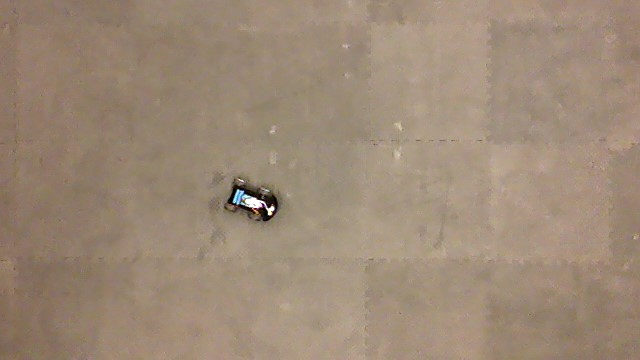Agent: (223, 175, 280, 224)
